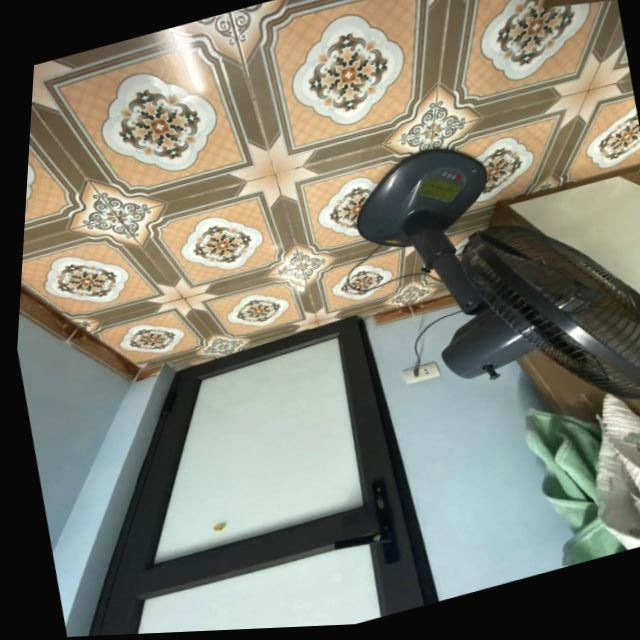outlet: (400, 361, 441, 387)
